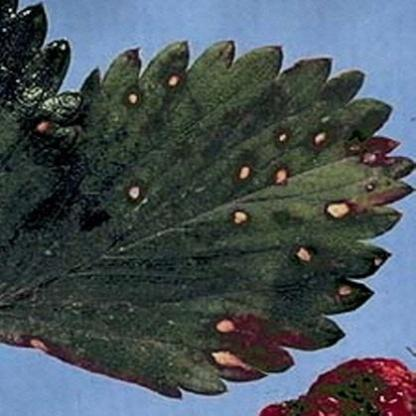Strawberry_Anthracnose_Fruit_Rot: (258, 356, 415, 416)
Strawberry_Leaf_Spot: (0, 38, 415, 402)
